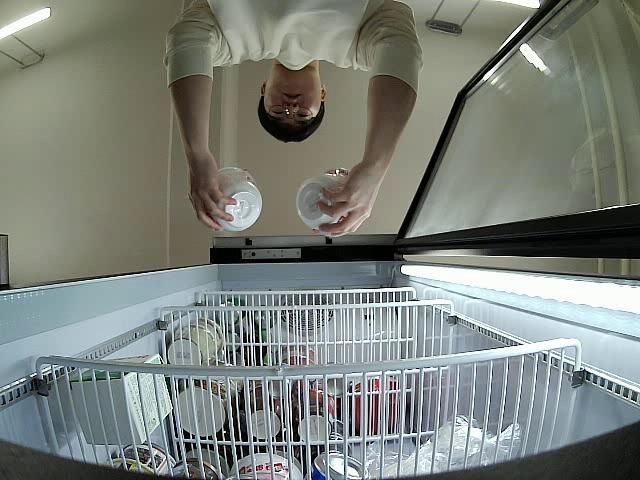09_yukGaeJang: (295, 166, 352, 239), (212, 166, 262, 233)
